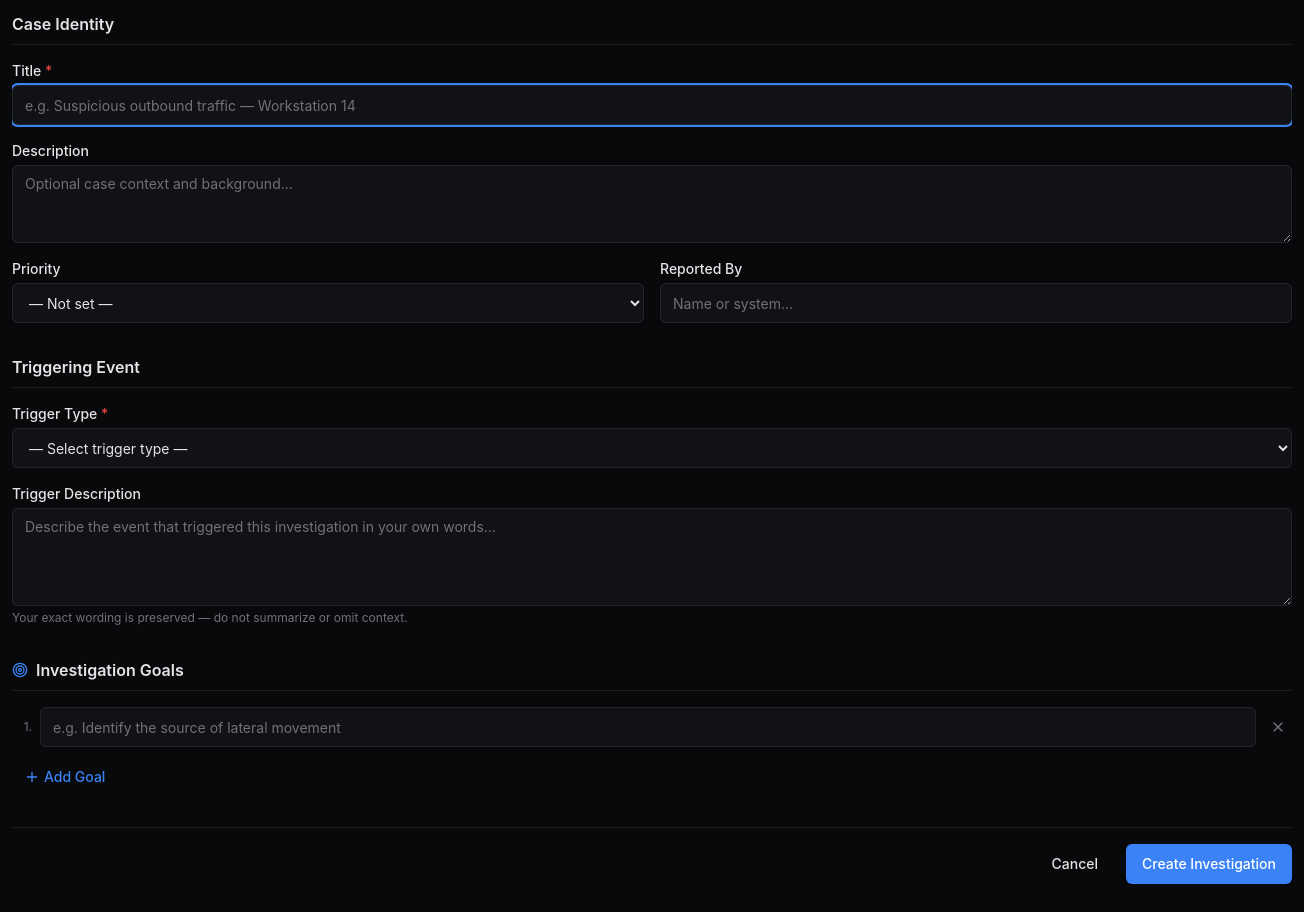
Scenario: CreateCaseForm › displays API error message when createCase fails
This screenshot has width=1304, height=912.
In the field labelled "Title *": (652, 105) [12,85,1292,125], type "Duplicate Title"
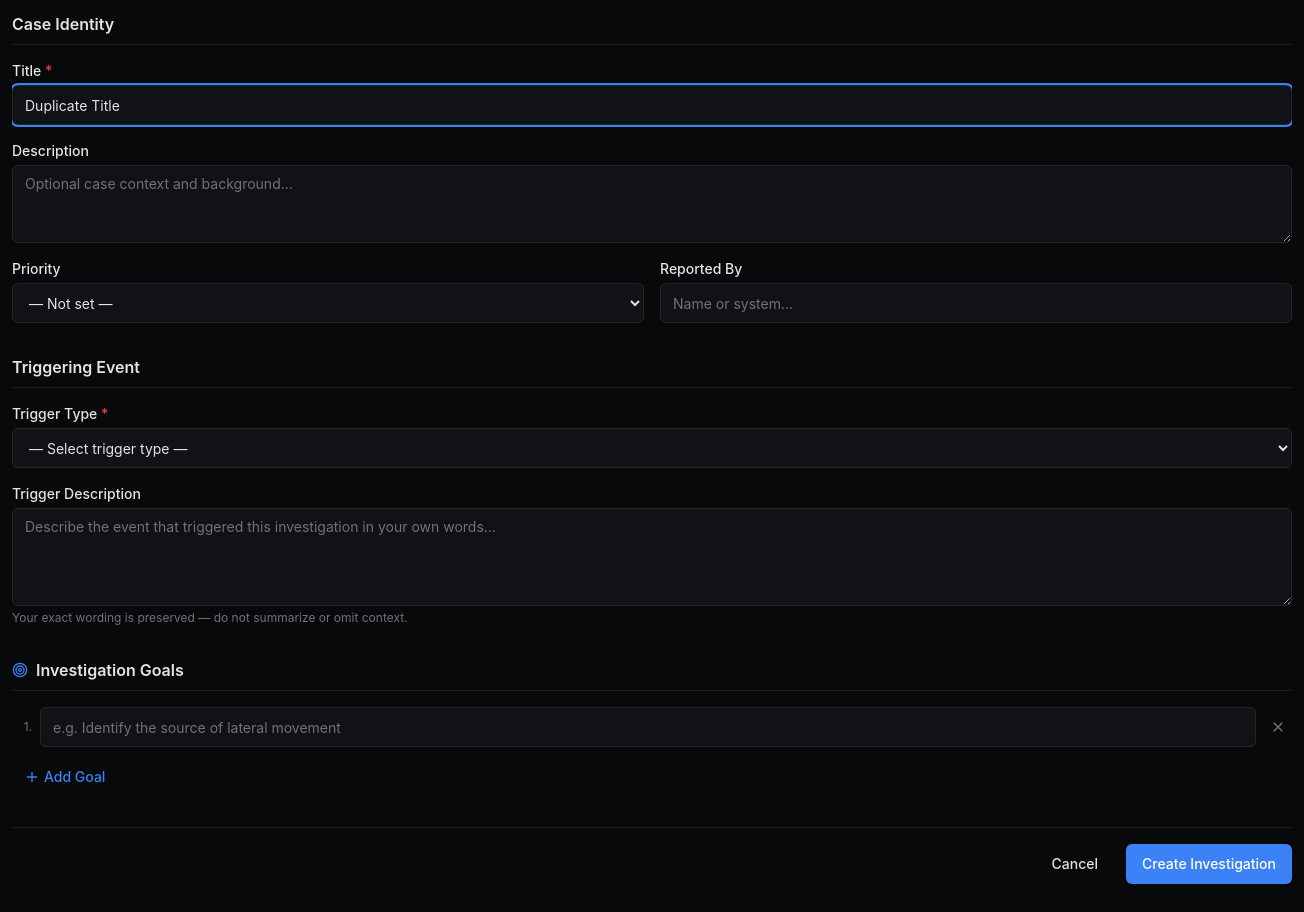
Select "USER REPORT" in the dropdown labelled "Trigger Type *": (652, 448) [12,428,1292,468]
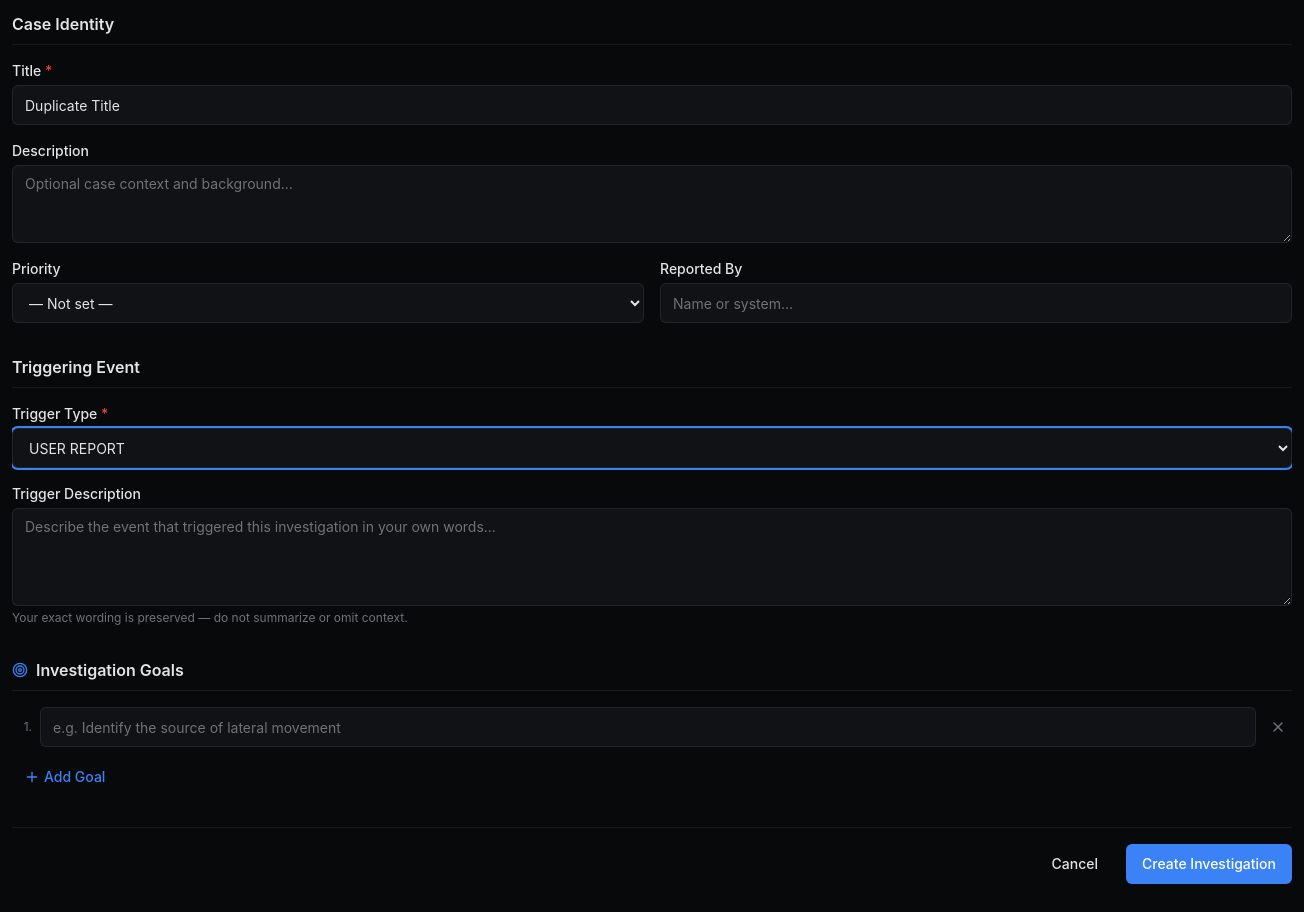
In the text box labelled "Trigger Description": (652, 557) [12,508,1292,606], type "Valid description text"
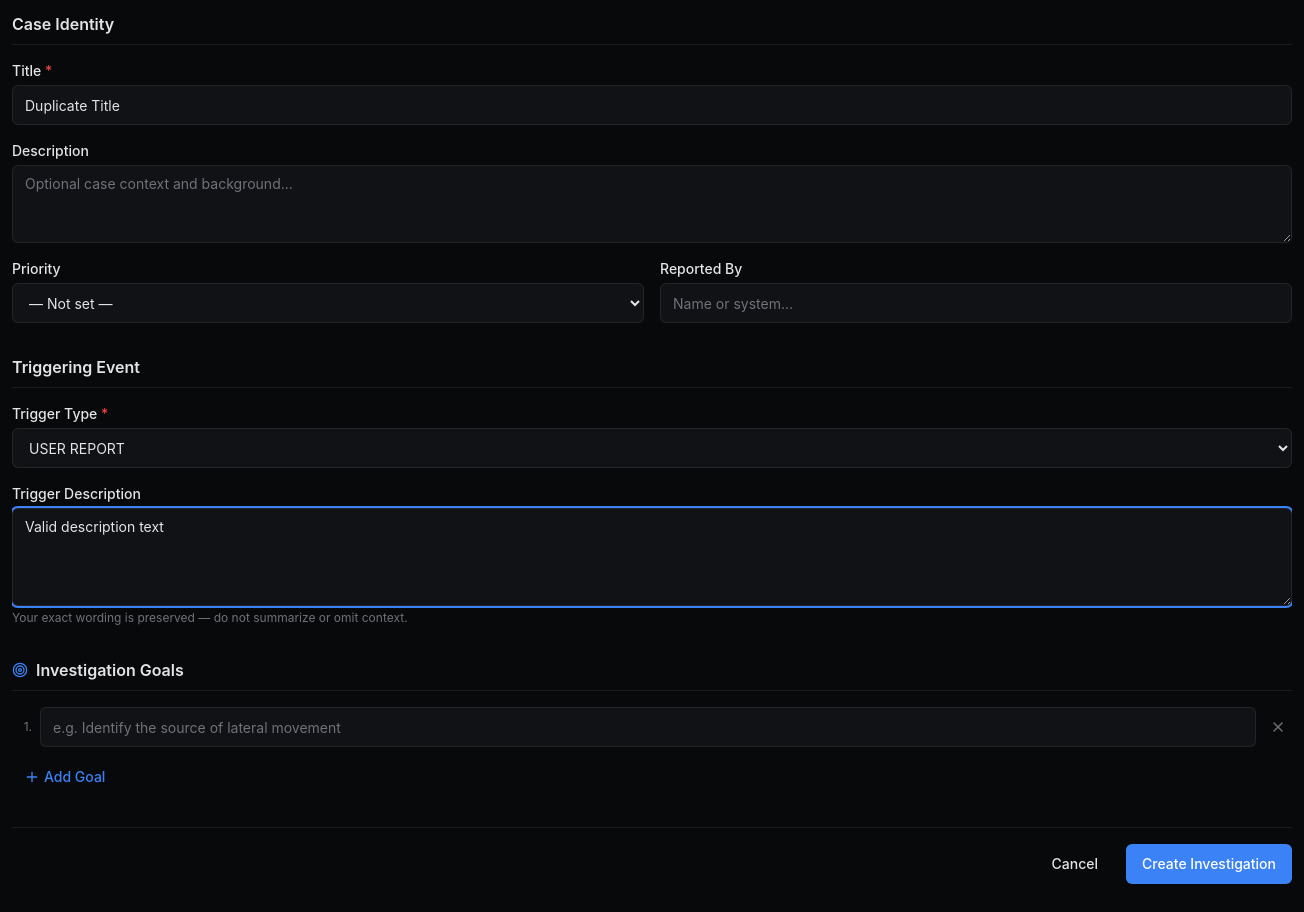
Click the button "Create Investigation": click(1209, 864) [1126,844,1292,884]
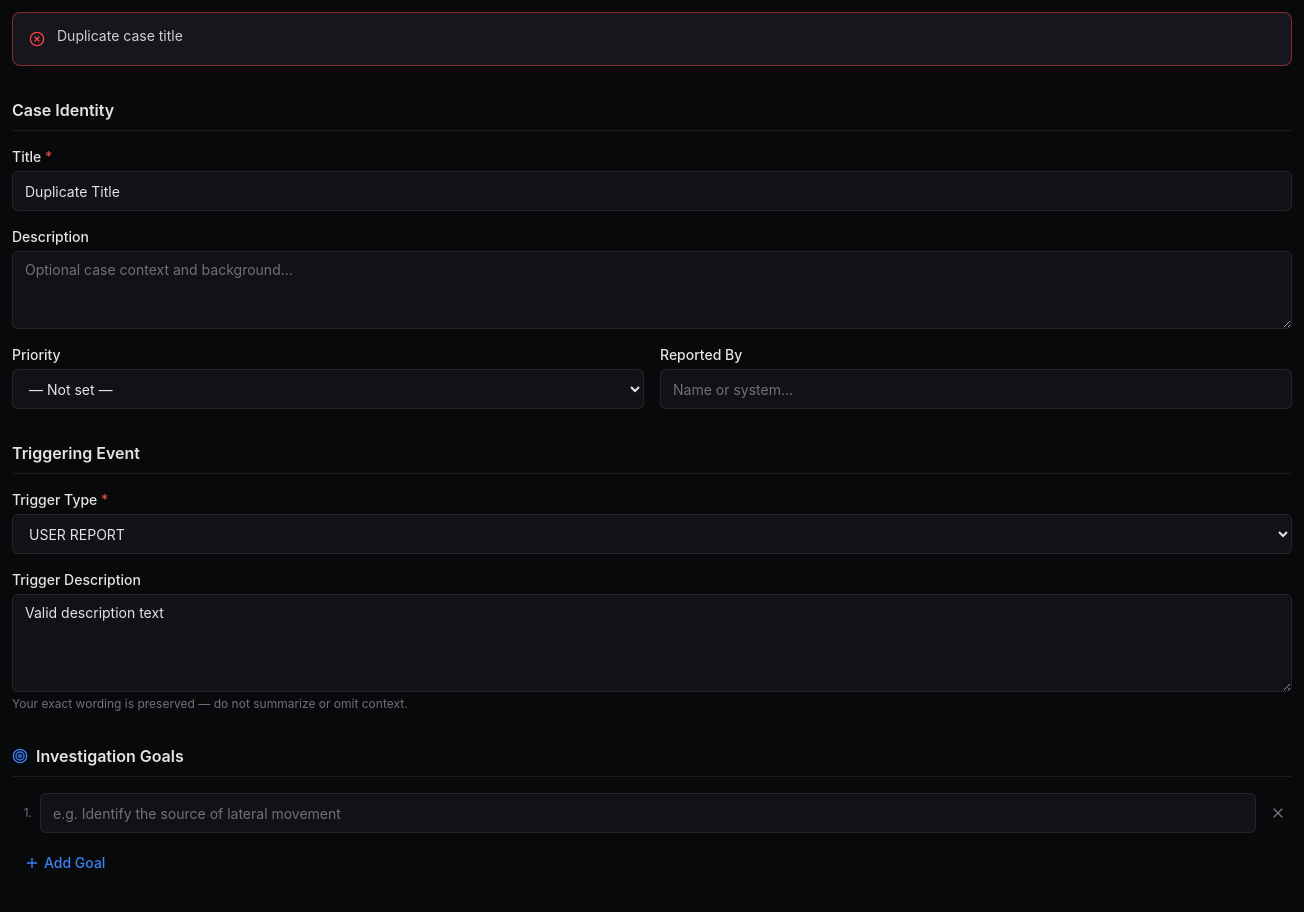
Now the text "Duplicate case title" is shown, box [57,27,183,44]
